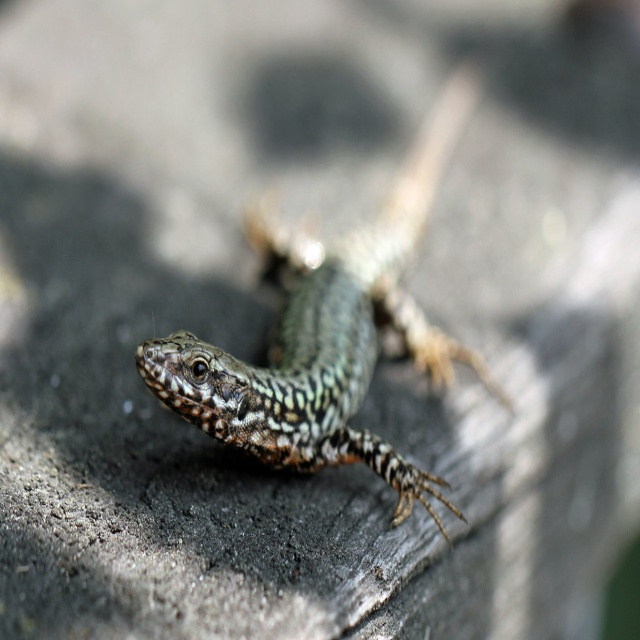Lizard: (135, 89, 482, 540)
